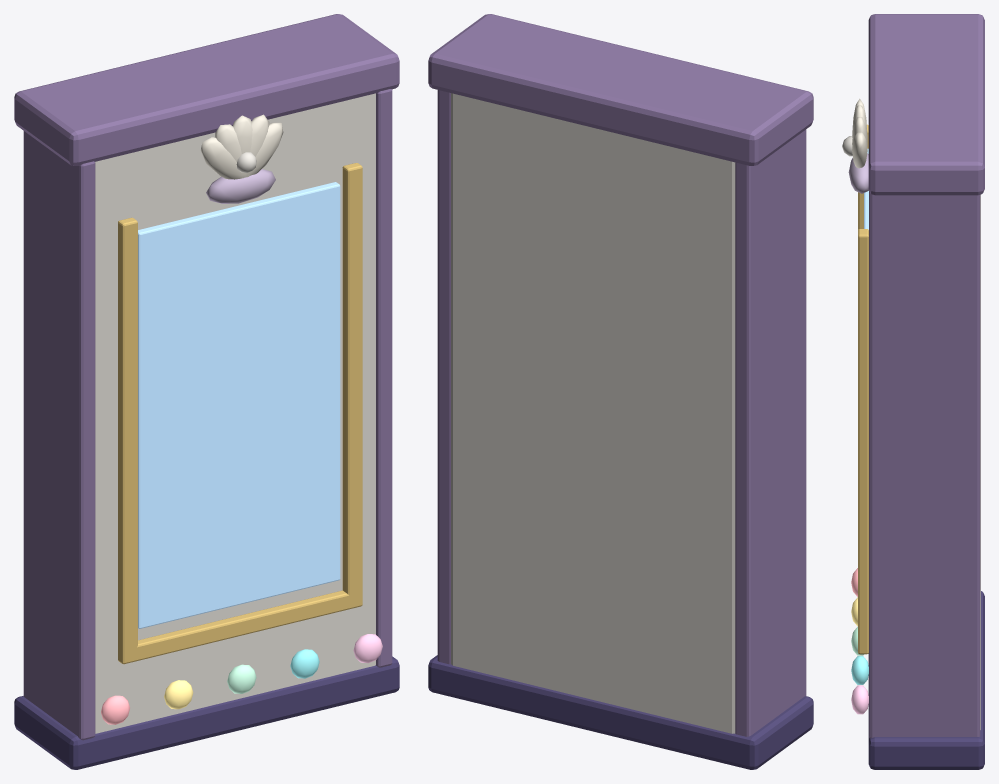
File: pearl_shell_wardrobe.glb
The picture shows the model from 3 angles, left to right: view 1: azimuth 30°, elevation 25°; view 2: azimuth 150°, elevation 25°; view 3: azimuth 270°, elevation 25°; orthographic projection. The views are drawn at different scales.
Parts seen in each view (by area): view 1: pearl_shell_wardrobe.001; view 2: pearl_shell_wardrobe.001; view 3: pearl_shell_wardrobe.001.
Boxes of the visible parts, bbox=[...] form: pearl_shell_wardrobe.001: bbox=[14, 14, 399, 769]; pearl_shell_wardrobe.001: bbox=[428, 14, 813, 769]; pearl_shell_wardrobe.001: bbox=[842, 14, 984, 769].
Size of the model in its own units: 7.1 by 13.14 by 2.8.
